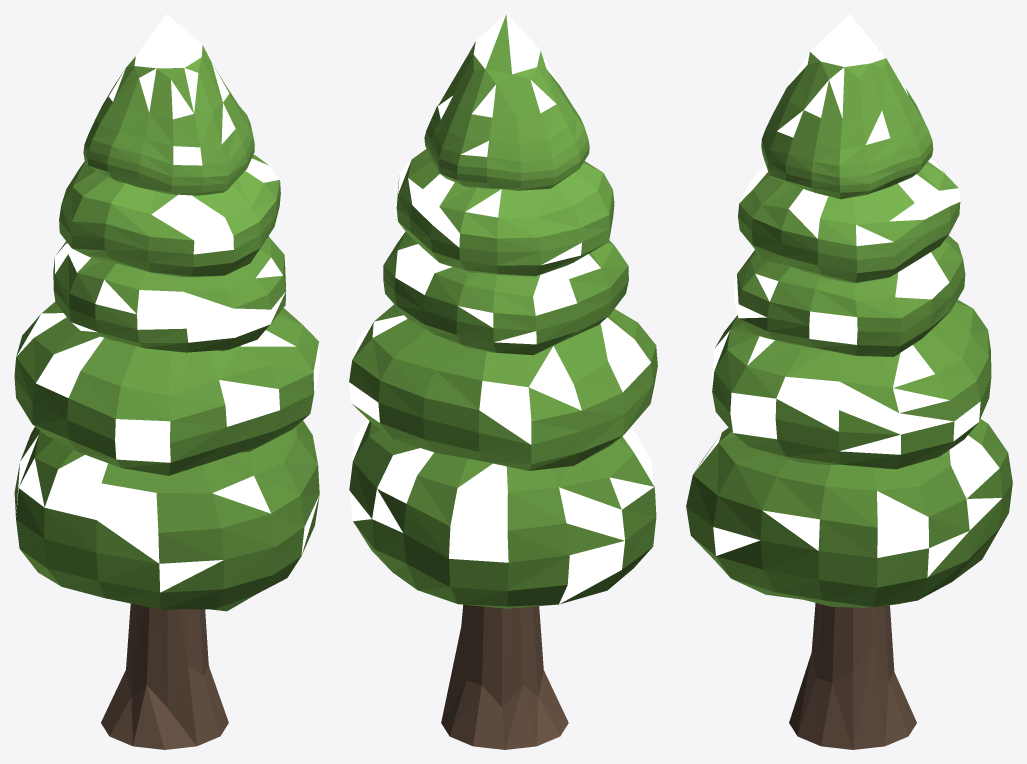
File: tree_round_snow_1.glb
The picture shows the model from 3 angles, left to right: view 1: azimuth 30°, elevation 25°; view 2: azimuth 150°, elevation 25°; view 3: azimuth 270°, elevation 25°; orthographic projection.
Visible parts, largest first — view 1: tree_0034.003; view 2: tree_0034.003; view 3: tree_0034.003.
Boxes of the visible parts, x1,y1,x2,y2 form: tree_0034.003: (14, 14, 320, 749); tree_0034.003: (349, 14, 657, 749); tree_0034.003: (686, 14, 1012, 749).
Bounding box in the file's own units: 1.4 × 3.44 × 1.44.
